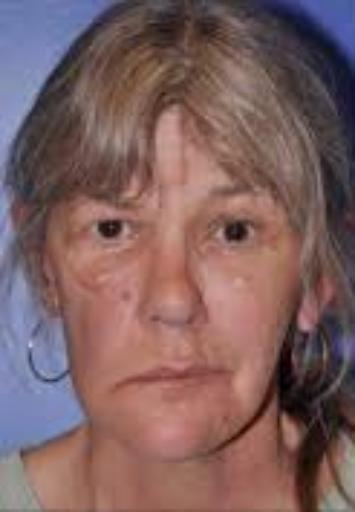left_eye: (205, 217, 262, 250)
left_lip_corner: (216, 363, 239, 382)
right_eye: (76, 218, 146, 251)
right_lip_corner: (112, 375, 148, 389)
